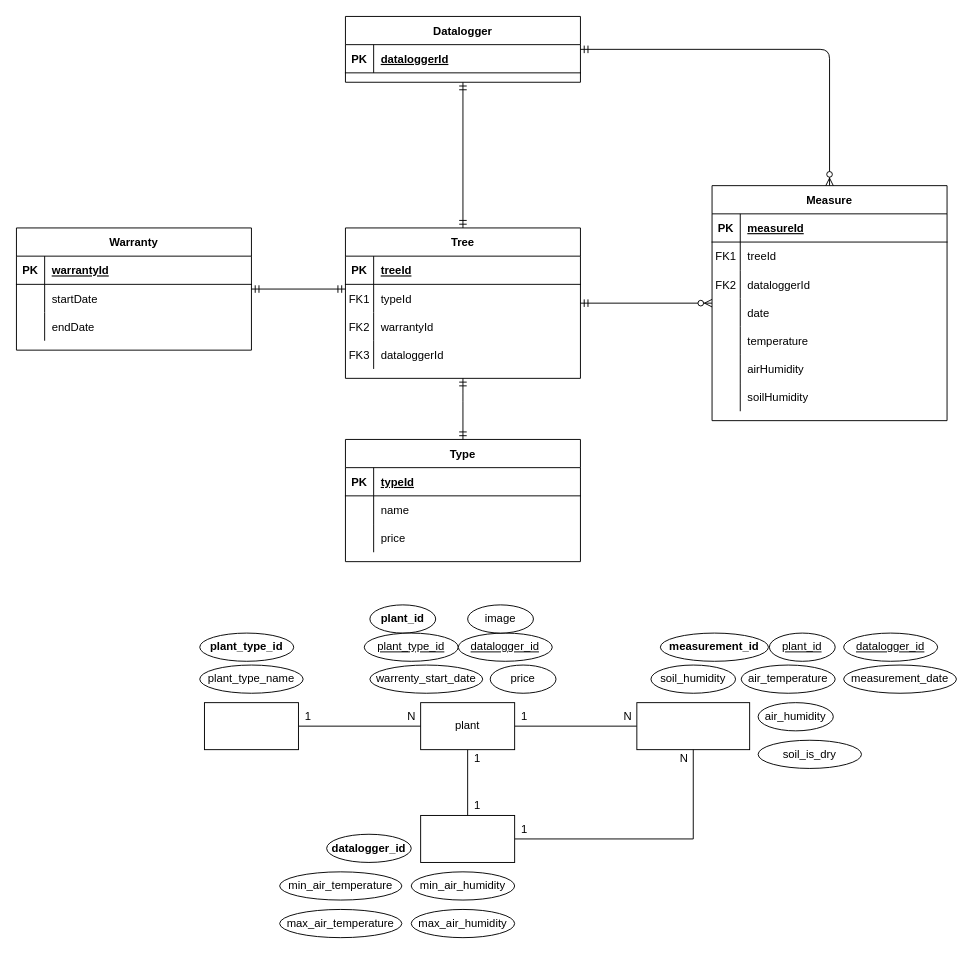
This 973x954 diagram has some shape labels left out. The box of each missing label's shape, as (x1, y1, x2, y2) in pixels:
dataloggers: (420, 815, 515, 862)
measurements: (636, 702, 750, 750)
plant_type: (204, 702, 298, 750)
